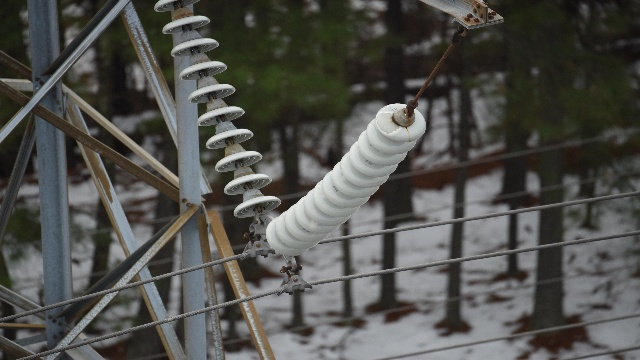insulator_unspecified: (155, 0, 281, 222), (264, 104, 424, 256)
pollution_flashover_local: (375, 108, 398, 139)
